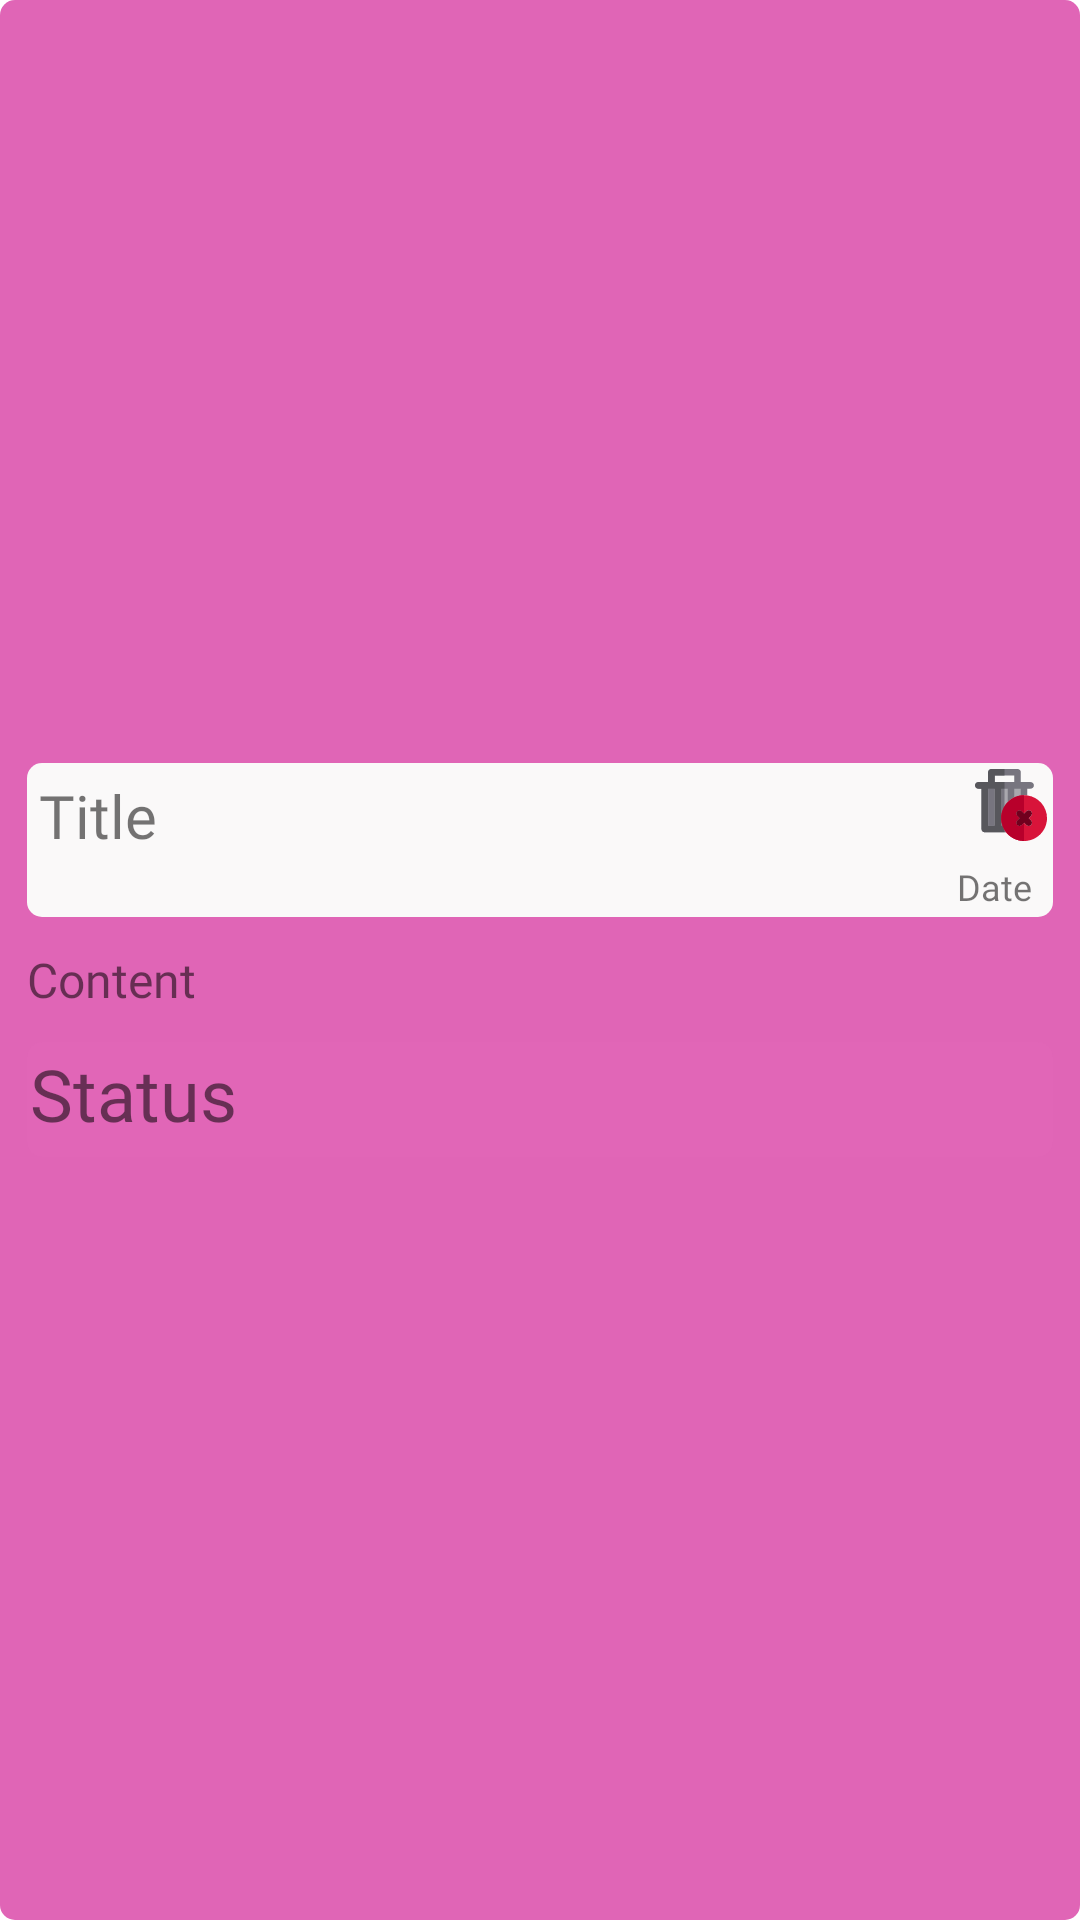

Icon click points for this 1080*1920 phone screenshot, format (x,y):
delete: (1011,805)
